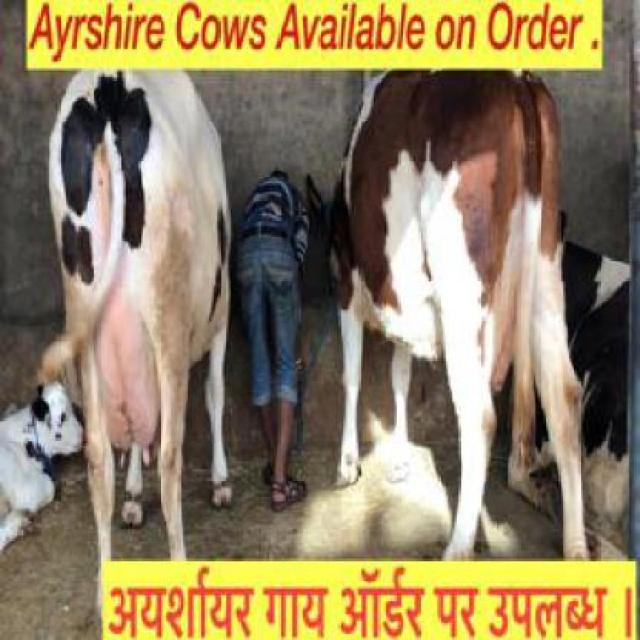Cow: (303, 66, 595, 559), (34, 59, 238, 618)
